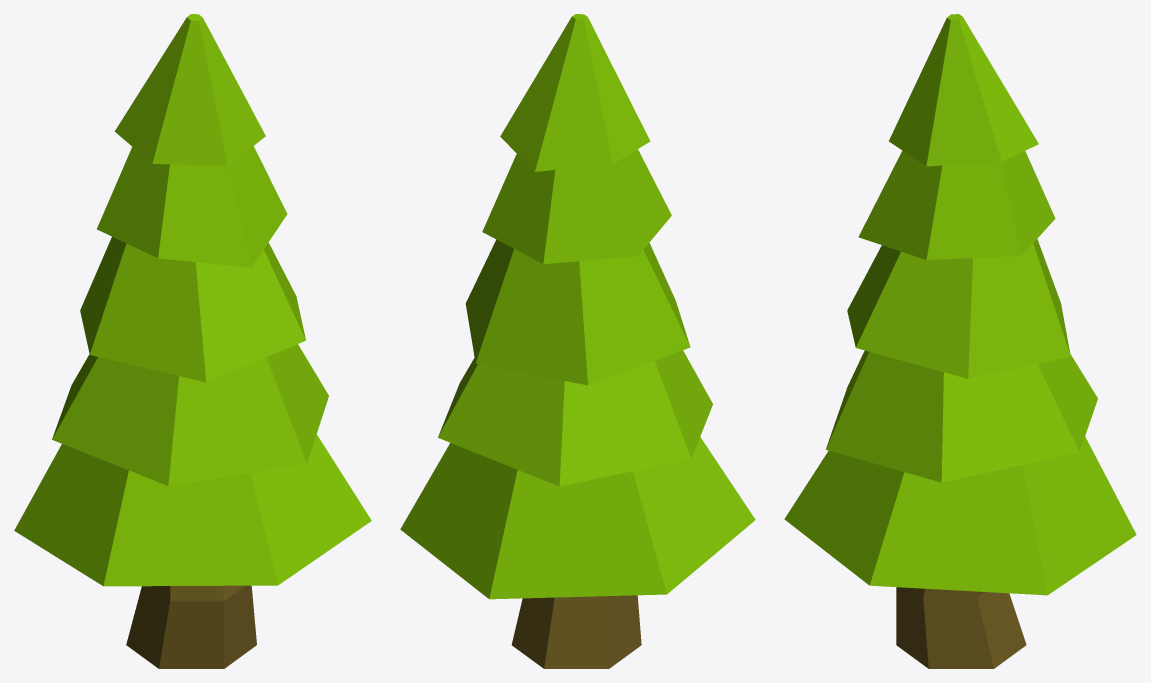
Rendered from tree1.fbx.
The picture shows the model from 3 angles, left to right: view 1: azimuth 30°, elevation 25°; view 2: azimuth 150°, elevation 25°; view 3: azimuth 270°, elevation 25°; orthographic projection.
Parts seen in each view (by area): view 1: 실린더; view 2: 실린더; view 3: 실린더.
Part boxes in pixels (x1,y1,x2,y2): 실린더: (14, 14, 371, 668); 실린더: (400, 14, 755, 668); 실린더: (784, 14, 1136, 668).
Bounding box in the file's own units: 407 × 914 × 464.
